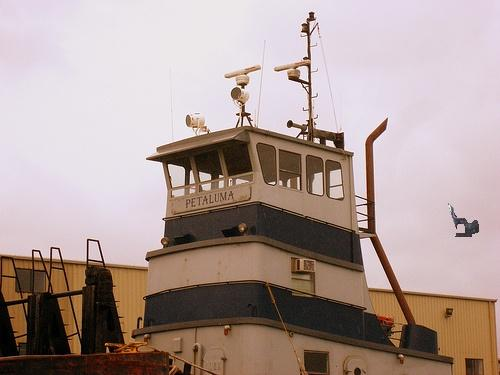tampered: (449, 204, 479, 237)
